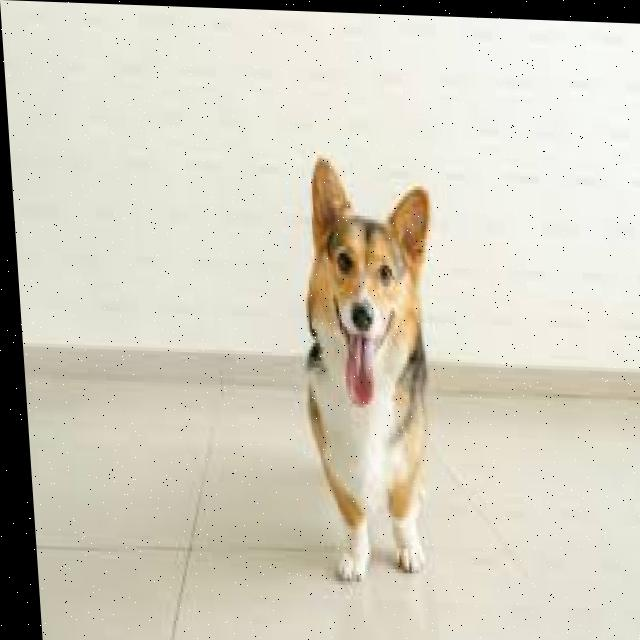CORGI: (267, 156, 467, 598)
